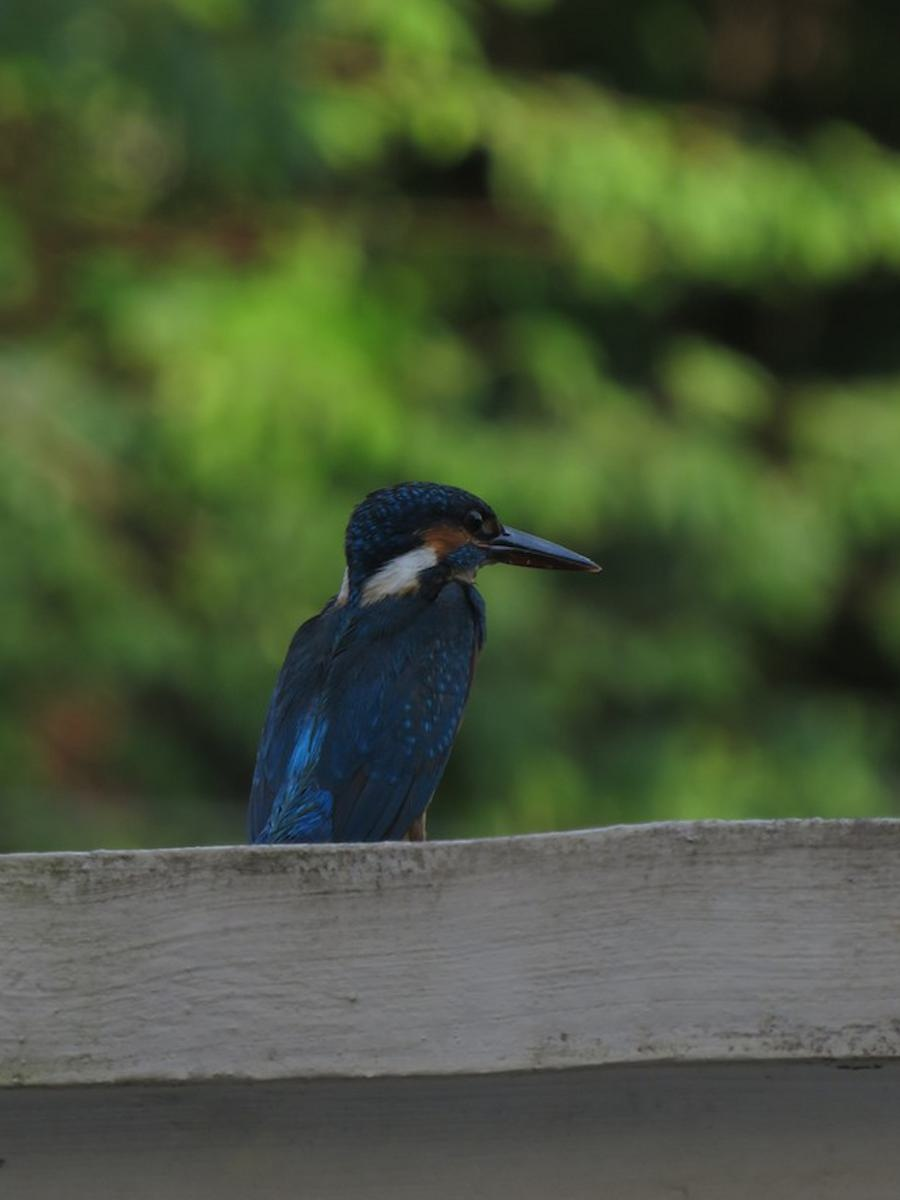kingfisher: (248, 428, 605, 862)
